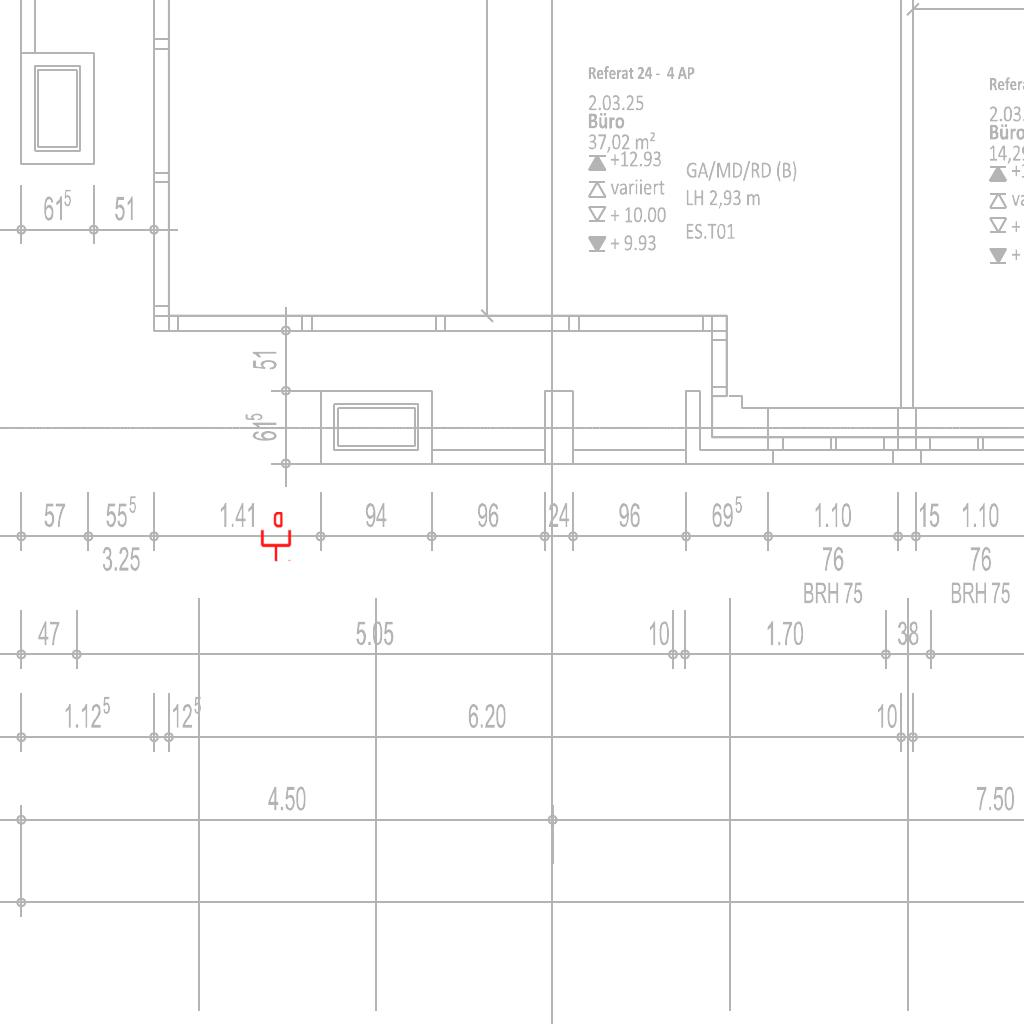Datenanschluss_einfach: (259, 512, 293, 562)
